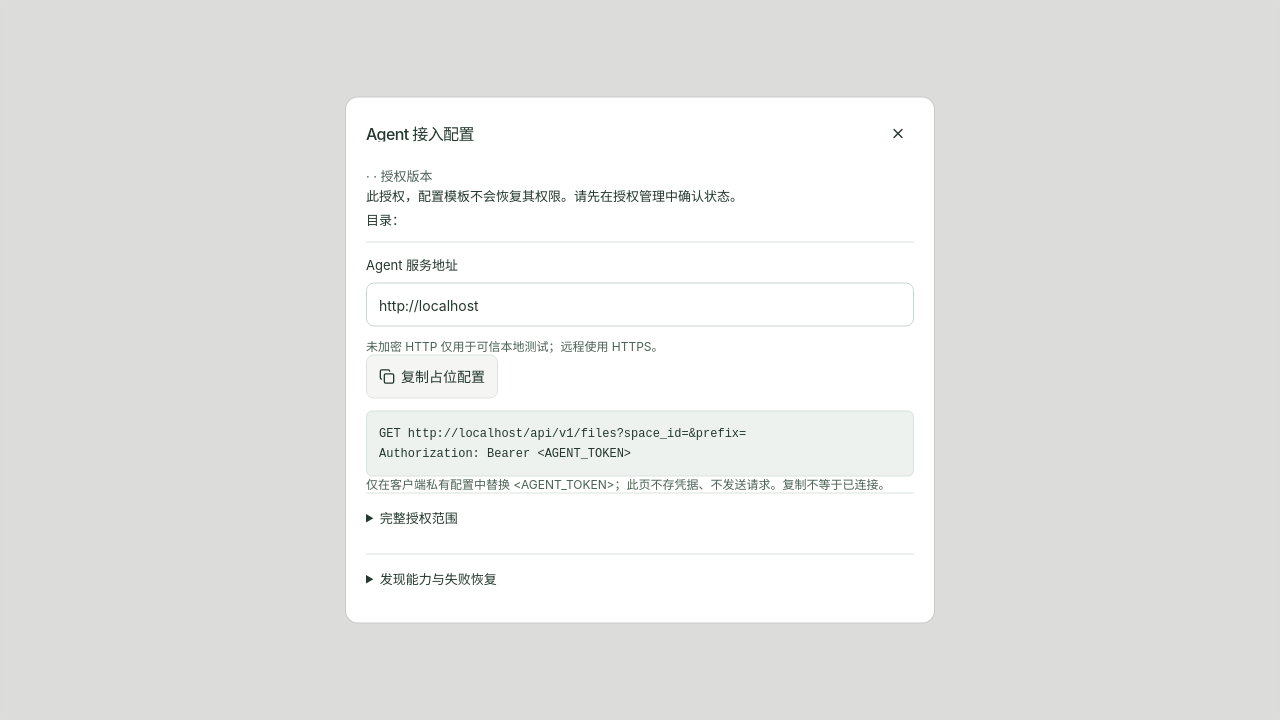
rejects ambiguous or credential-bearing service address https://user:secret@example.invalid
Replace the text in the field labelled "Agent 服务地址" with "https://user:secret@example.invalid" at x=640, y=304, box [366,282,914,326]
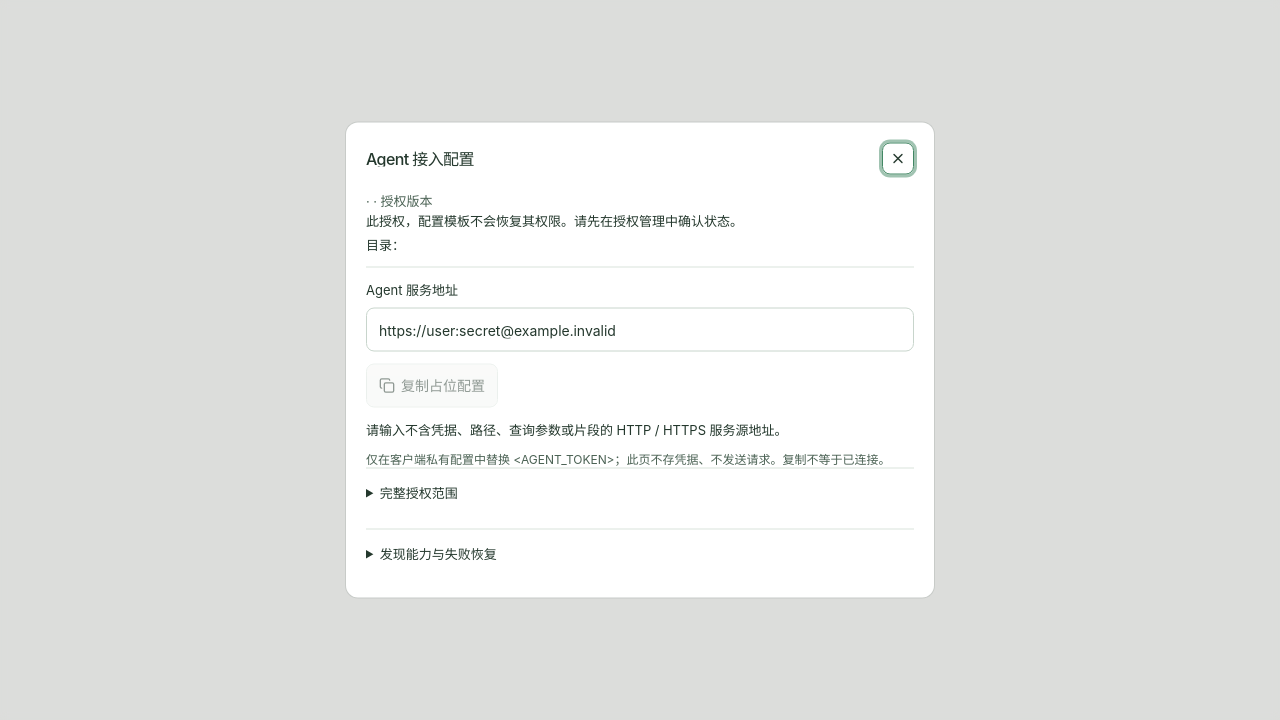
Expected: the text labelled "占位接入配置" is gone
Expected: the button "复制占位配置" is disabled, [366,364,498,408]
